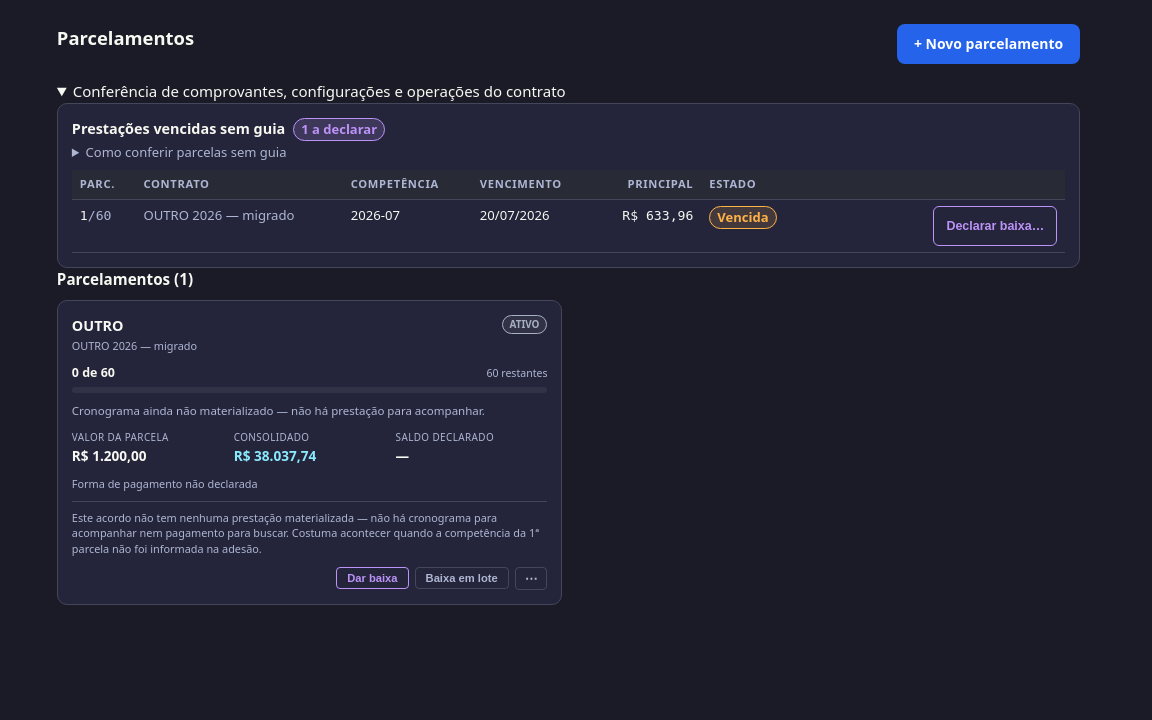
o ato de consequência › recusa do servidor fica na tela, com o motivo traduzido
The image size is (1152, 720).
Click the button "Declarar baixa…".
click(995, 226)  # box x1=933 y1=206 x2=1057 y2=246
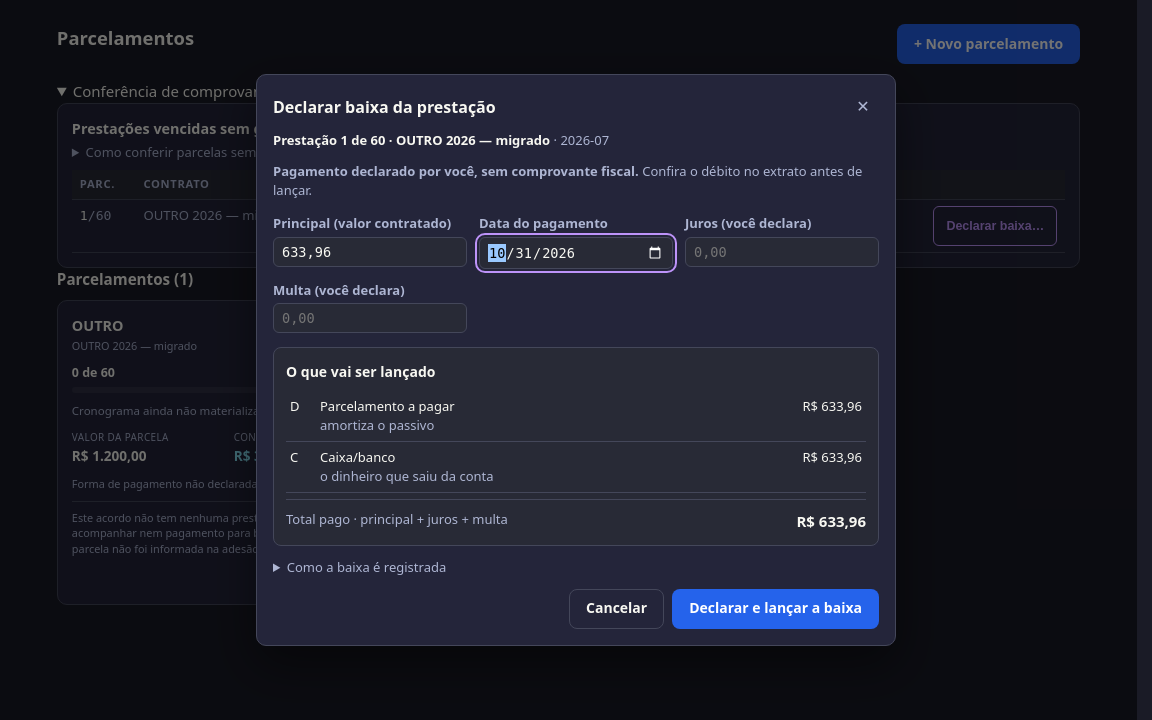
Click the button "Declarar e lançar a baixa".
click(776, 608)  # box x1=672 y1=588 x2=879 y2=628
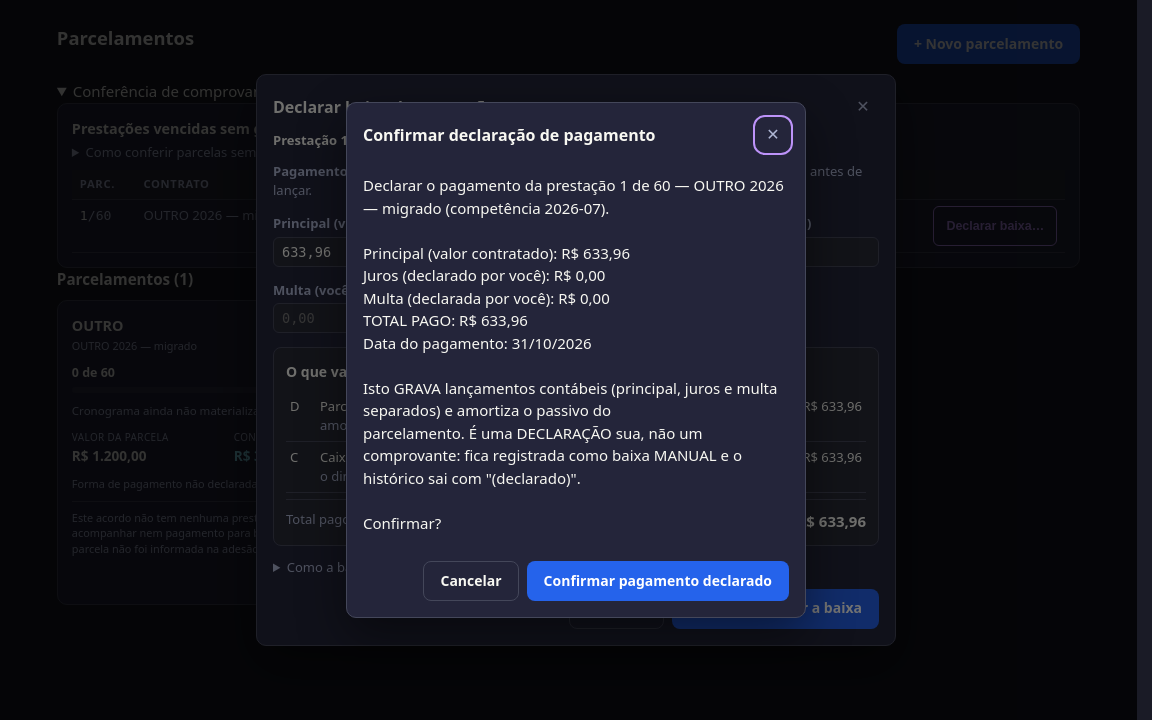
Click the button "Confirmar pagamento declarado".
click(658, 581)  # box x1=527 y1=561 x2=789 y2=601
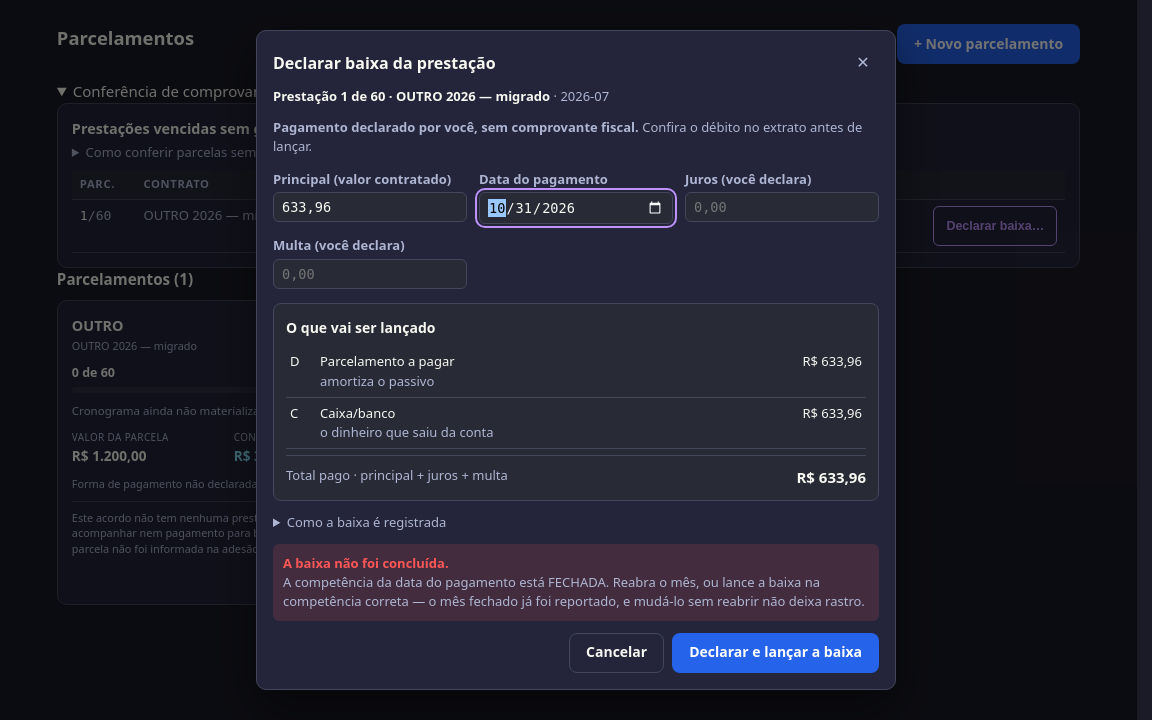
Expected: the dialog is shown
Expected: the text "A baixa não foi concluída." is shown, x1=283 y1=554 x2=449 y2=572
Expected: the text "competência da data do pagamento está FECHADA" is shown, x1=283 y1=573 x2=865 y2=610
